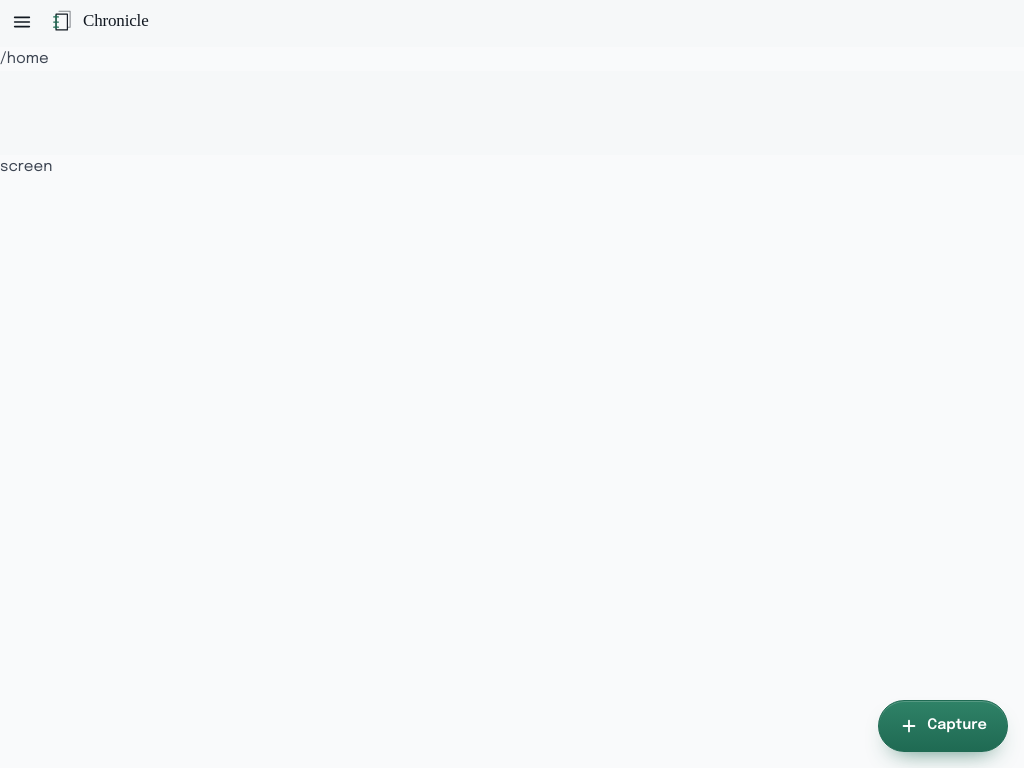
Test: mobile drawer › navigates to Attachments and closes afterwards
What coordinates should you click on to do the following:
click the button with test id "nav-menu-button"
I would click on:
 (22, 22)
Its box is [0, 0, 44, 44].
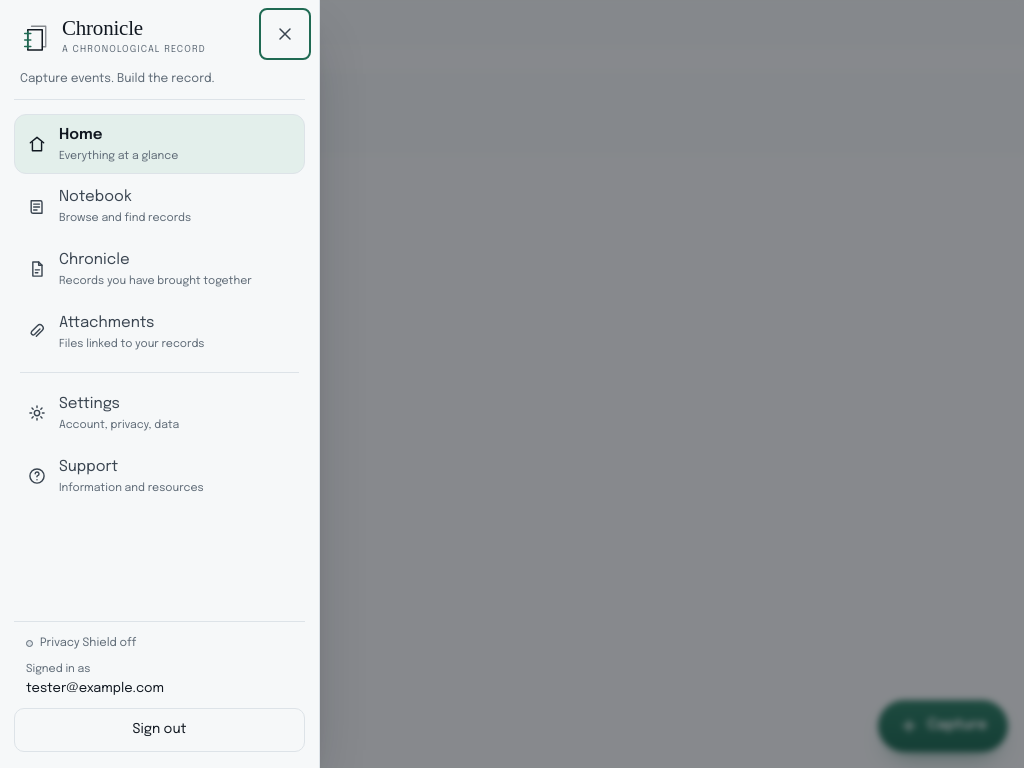
Check: the dialog with test id "nav-drawer" is shown, box [0, 0, 320, 767]
What coordinates should you click on to do the following:
click the button "Attachments Files linked to your records"
I would click on:
 (107, 323)
Its box is [14, 302, 305, 362].
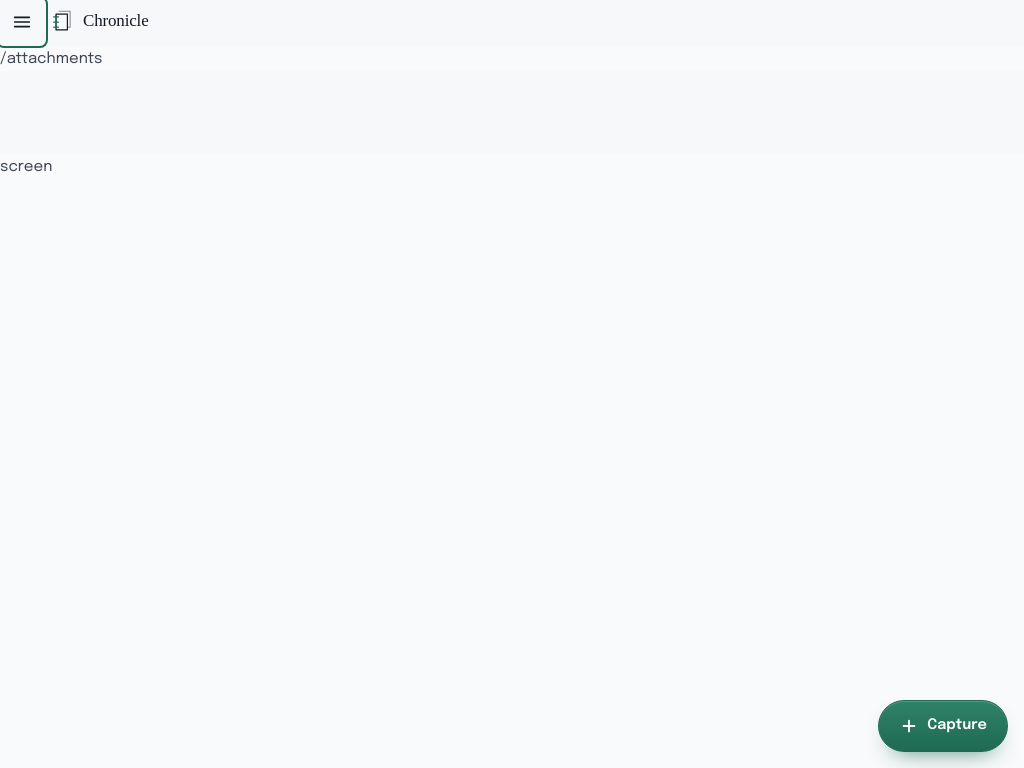
Check: the text with test id "path" reads "/attachments", box [0, 51, 102, 67]
Check: the dialog with test id "nav-drawer" is gone
